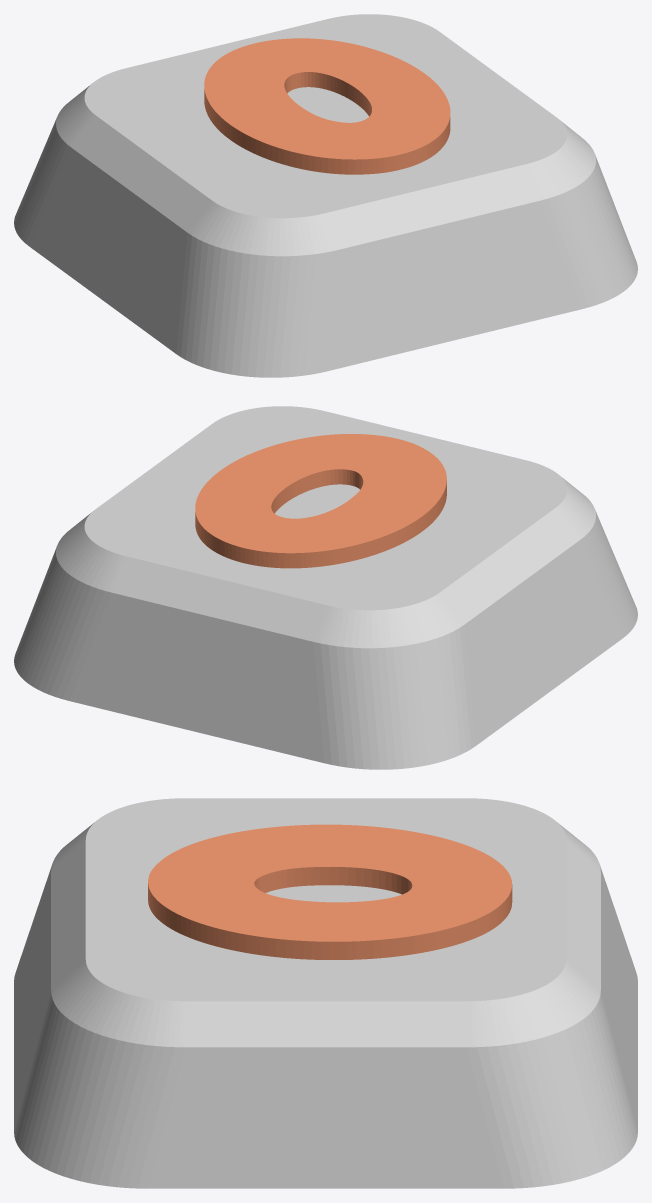
The model's file is cap-0.glb.
The picture shows the model from 3 angles, top to bottom: view 1: azimuth 30°, elevation 25°; view 2: azimuth 150°, elevation 25°; view 3: azimuth 270°, elevation 25°; orthographic projection. The views are drawn at different scales.
Visible parts, largest first — view 1: cap_0, glyph_1; view 2: cap_0, glyph_1; view 3: cap_0, glyph_1.
Part boxes in pixels (x1,y1,x2,y2): cap_0: (14, 14, 637, 377); glyph_1: (204, 38, 450, 174); cap_0: (14, 406, 637, 769); glyph_1: (195, 434, 446, 568); cap_0: (14, 798, 637, 1188); glyph_1: (148, 824, 512, 959).
Bounding box in the file's own units: 18 × 5.59 × 18.
